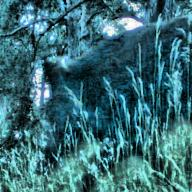boar: (24, 23, 192, 191)
